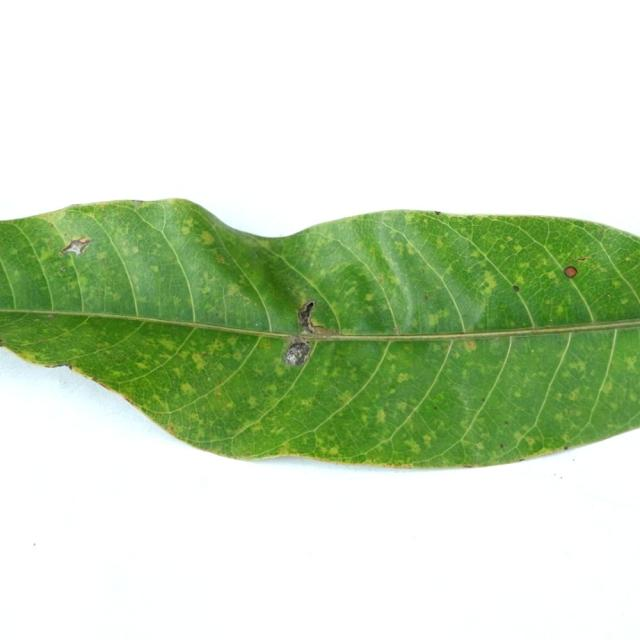Mango: (0, 200, 639, 467)
Powdery_Mildew: (472, 266, 506, 296), (283, 340, 311, 367), (424, 305, 455, 328), (360, 459, 423, 469), (403, 211, 439, 227), (11, 350, 47, 365), (304, 322, 339, 337), (618, 226, 639, 247), (157, 338, 176, 353), (191, 352, 208, 367), (199, 230, 214, 245), (225, 283, 241, 297), (623, 355, 638, 369), (571, 361, 587, 374), (566, 389, 581, 402), (618, 323, 639, 332), (554, 304, 567, 318), (180, 382, 195, 394), (120, 394, 135, 406), (564, 266, 578, 278), (375, 408, 386, 423), (601, 381, 614, 393), (338, 393, 352, 404), (247, 397, 260, 408), (525, 436, 537, 447), (305, 299, 317, 310), (397, 373, 410, 383), (397, 401, 410, 411), (211, 339, 224, 349), (300, 325, 313, 335), (78, 236, 92, 245), (223, 401, 234, 411), (465, 340, 476, 350), (546, 271, 558, 280), (394, 241, 404, 251), (422, 434, 432, 444), (364, 293, 375, 302), (470, 250, 481, 259), (328, 446, 339, 455), (8, 248, 19, 257), (513, 244, 523, 253), (201, 286, 211, 295), (97, 251, 107, 260), (407, 246, 416, 256), (436, 239, 445, 249), (181, 226, 191, 235), (216, 255, 226, 264), (612, 281, 623, 289), (61, 363, 73, 370), (621, 297, 631, 305), (475, 442, 485, 450), (150, 265, 159, 273), (514, 391, 523, 399), (167, 425, 175, 434), (303, 399, 313, 406), (131, 246, 139, 254), (598, 226, 605, 235), (393, 325, 400, 334), (69, 204, 82, 208), (131, 199, 144, 203), (277, 232, 287, 237), (215, 390, 222, 397), (505, 236, 513, 242), (388, 388, 396, 394), (576, 257, 587, 261), (462, 464, 473, 468), (626, 257, 633, 263), (370, 247, 376, 254), (590, 263, 597, 269), (211, 224, 218, 230), (201, 352, 209, 357), (60, 266, 66, 272), (46, 314, 55, 318), (310, 260, 315, 267), (90, 377, 97, 382), (493, 337, 500, 342), (0, 339, 4, 347), (378, 278, 383, 284), (58, 251, 64, 256), (434, 211, 441, 215), (122, 241, 127, 246), (64, 232, 69, 237), (424, 295, 429, 300), (50, 223, 55, 228), (280, 382, 286, 386), (464, 406, 470, 410), (518, 458, 525, 461), (504, 421, 509, 425), (499, 444, 504, 448), (433, 405, 437, 410), (548, 323, 553, 327), (563, 446, 568, 450), (255, 322, 259, 327), (549, 319, 553, 323), (481, 398, 485, 402), (216, 313, 220, 317), (174, 316, 179, 319), (608, 294, 611, 298), (531, 350, 534, 354)
